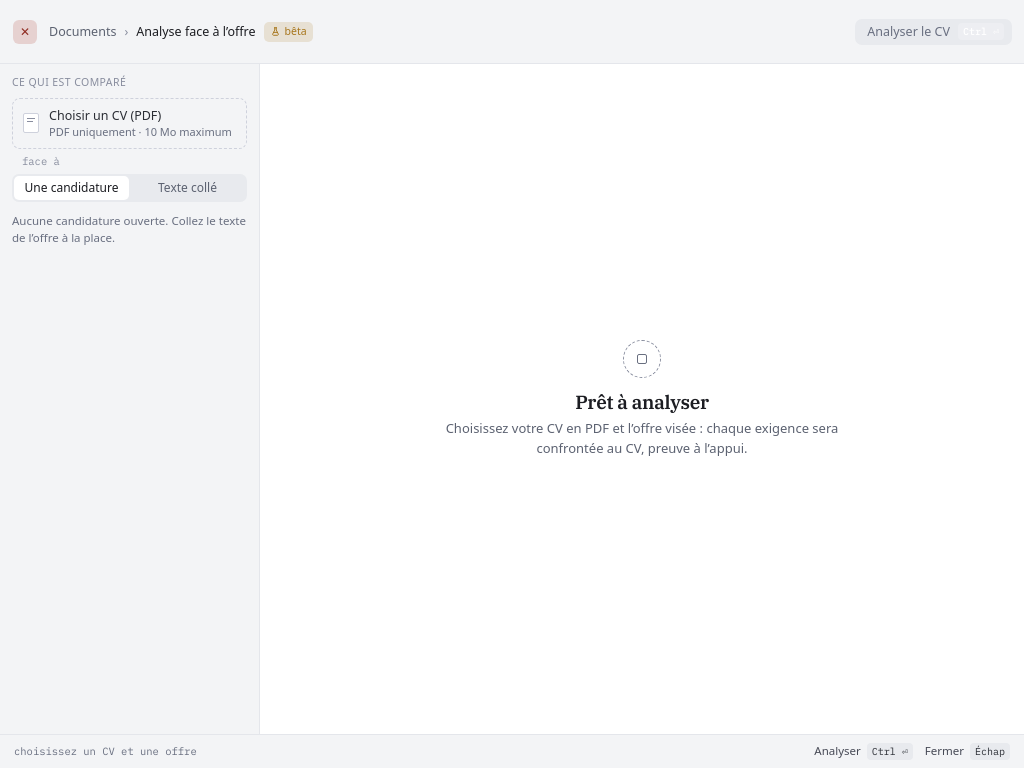
analyse explicite d'un CV sélectionné › sélectionne le PDF sans analyser puis lance l'analyse au clic dédié
This screenshot has width=1024, height=768.
Click the tab "Texte collé" at (188, 188), box [130,176,245,200]
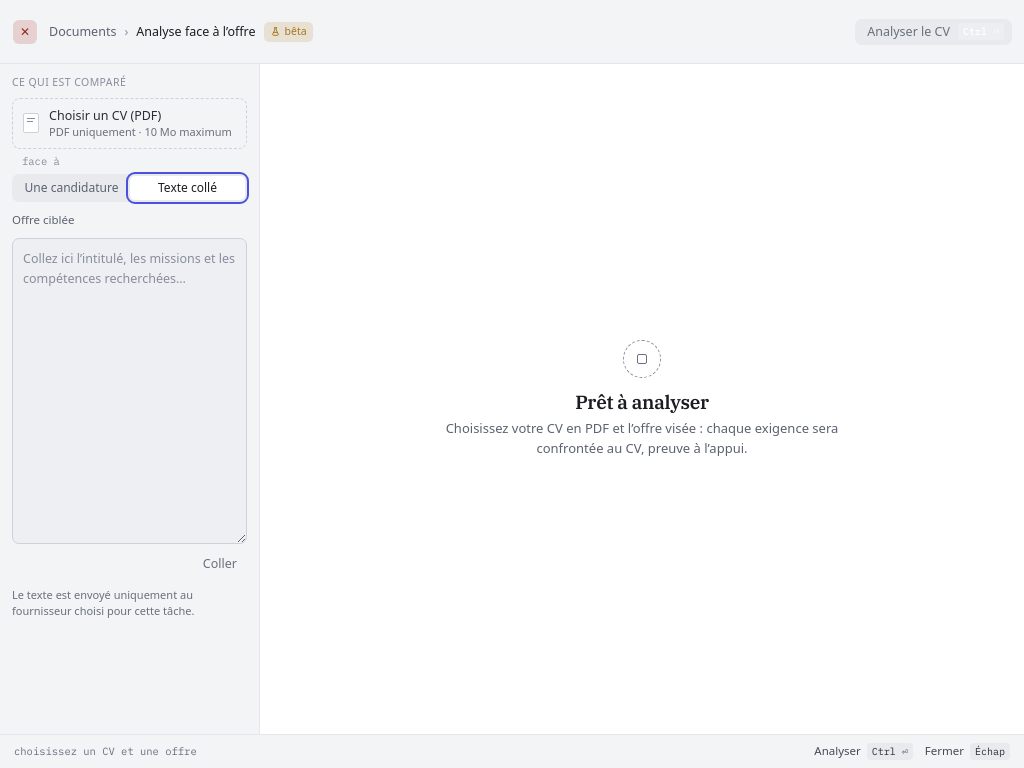
Type "Une offre" into the text box labelled "Offre ciblée" at (130, 391), box [12,238,247,544]
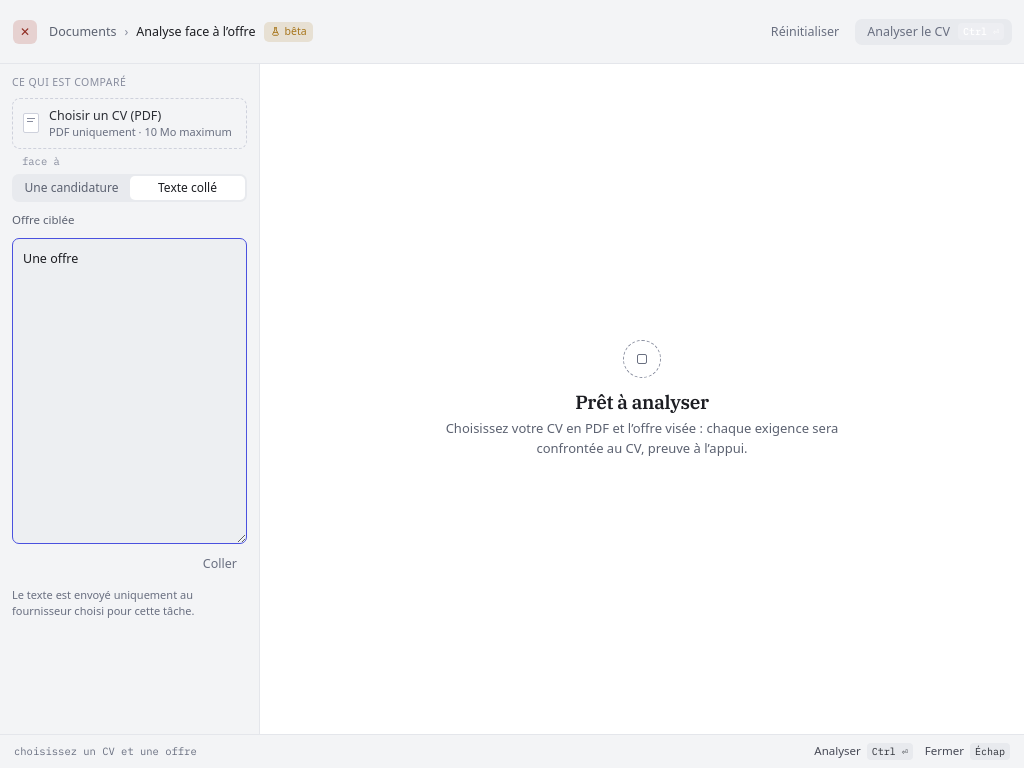
Click the button with aria-label "Choisir un fichier" at (130, 123), box [12,98,247,148]
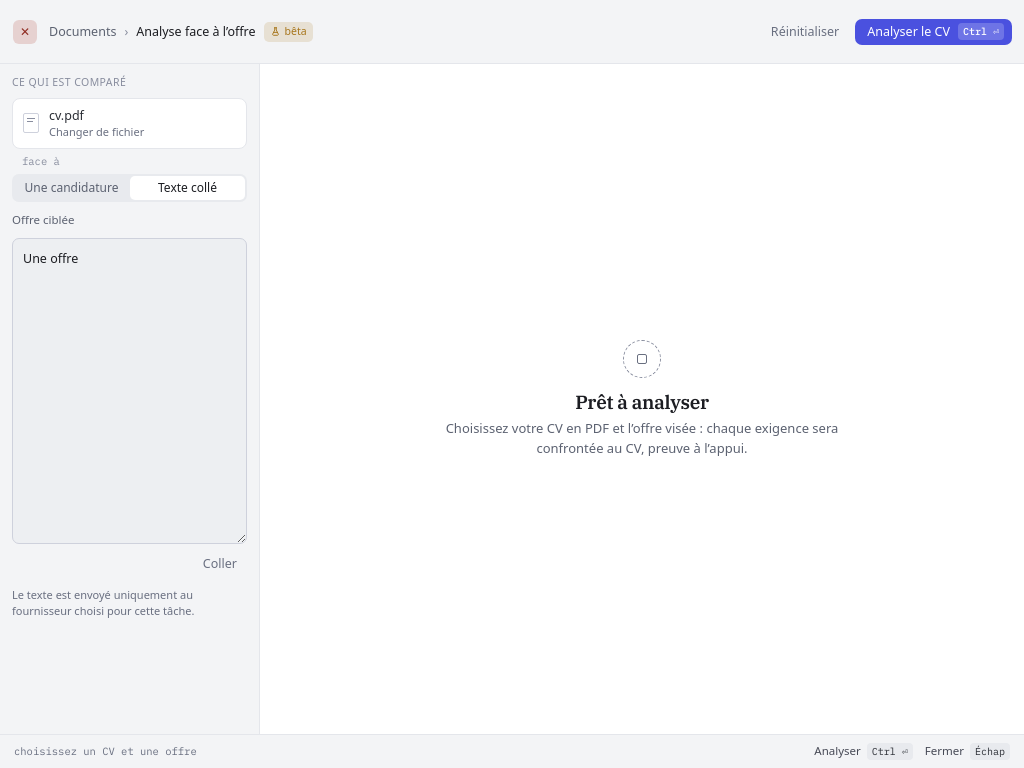
Expected: the text "cv.pdf" is shown, [49,107,84,124]
Click the button "Analyser le CV Ctrl ⏎" at (934, 32), box [855,18,1012,44]
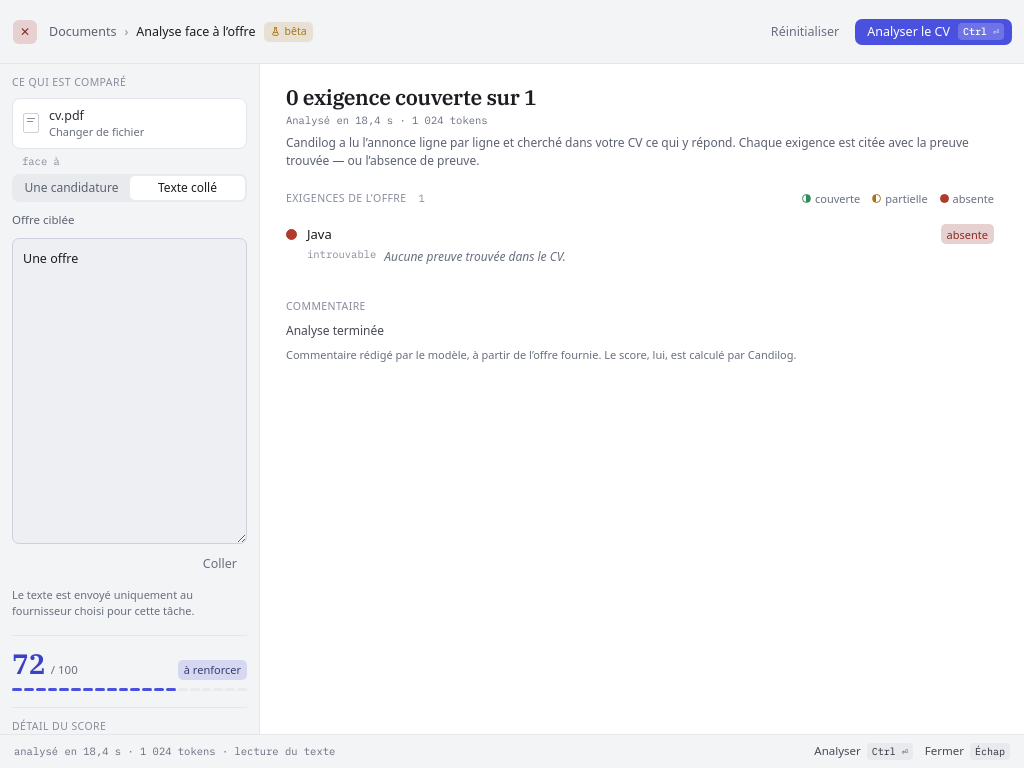
Expected: the text "Analysé en 18,4 s · 1 024 tokens" is shown, [286,113,488,127]
Expected: the list item shows "Java", [307,225,332,243]
Expected: the list item shows "absente", [947,227,988,242]
